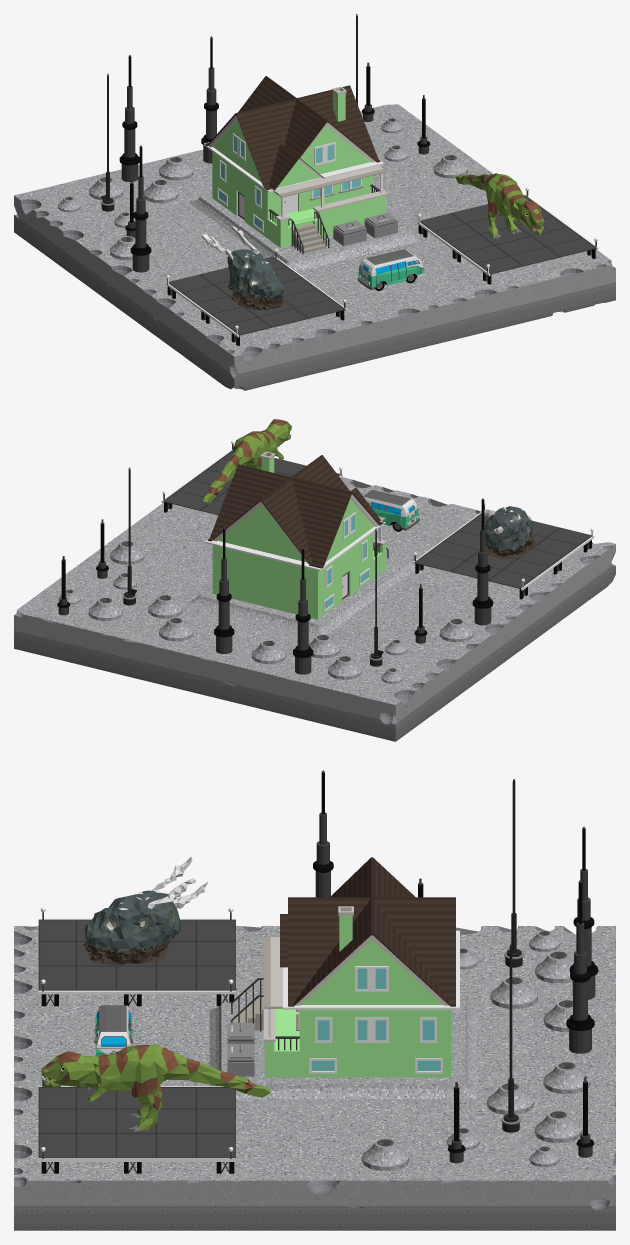
3 renders of one model, top to bottom at view 1: azimuth 30°, elevation 25°; view 2: azimuth 150°, elevation 25°; view 3: azimuth 270°, elevation 25°, orthographic. The views are drawn at different scales.
Parts seen in each view (by area): view 1: Cube.027, Cube.274, Cube.026, Cube.025, Cube.028, OBJRANDOM_METEORITE, ANIMAL_TREX, VEHICLES_VAN, Cylinder.021, Cylinder.020, Cylinder.017, Cube.029 (+5 smaller); view 2: Cube.027, Cube.274, Cube.025, Cube.028, Cube.026, ANIMAL_TREX, OBJRANDOM_METEORITE, VEHICLES_VAN, Cylinder.021, Cylinder.020, Cylinder.017, Cylinder.030 (+9 smaller); view 3: Cube.027, Cube.274, Cube.026, Cube.025, Cube.028, ANIMAL_TREX, OBJRANDOM_METEORITE, Cylinder.017, VEHICLES_VAN, Cylinder.020, Cylinder.021, Cylinder.033 (+11 smaller).
Boxes of the visible parts, x1,y1,x2,y2 form: Cube.027: (14, 104, 615, 390); Cube.274: (203, 76, 388, 254); Cube.026: (417, 187, 598, 284); Cube.025: (165, 249, 347, 345); Cube.028: (190, 193, 420, 271); OBJRANDOM_METEORITE: (201, 226, 284, 310); ANIMAL_TREX: (455, 173, 544, 239); VEHICLES_VAN: (357, 249, 424, 290); Cylinder.021: (130, 145, 151, 272); Cylinder.020: (119, 55, 139, 181); Cylinder.017: (201, 36, 218, 163); Cube.029: (333, 220, 366, 245); Cube.027: (14, 477, 615, 741); Cube.274: (205, 451, 388, 619); Cube.025: (413, 502, 594, 599); Cube.028: (188, 554, 415, 635); Cube.026: (161, 440, 342, 515); ANIMAL_TREX: (203, 419, 291, 503); OBJRANDOM_METEORITE: (484, 506, 535, 559); VEHICLES_VAN: (363, 490, 419, 531); Cylinder.021: (472, 498, 493, 625); Cylinder.020: (293, 547, 313, 674); Cylinder.017: (214, 527, 234, 653); Cylinder.030: (148, 594, 182, 618); Cube.027: (14, 926, 615, 1230); Cube.274: (231, 857, 459, 1077); Cube.026: (38, 1075, 235, 1173); Cube.025: (38, 907, 235, 1006); Cube.028: (209, 1002, 477, 1098); ANIMAL_TREX: (41, 1044, 271, 1131); OBJRANDOM_METEORITE: (83, 856, 207, 964); Cylinder.017: (566, 880, 594, 1053); VEHICLES_VAN: (94, 1005, 133, 1056); Cylinder.020: (569, 826, 598, 999); Cylinder.021: (313, 770, 333, 897); Cylinder.033: (361, 1138, 409, 1170).
Bounding box in the file's own units: 4000 × 1803 × 4000.
Materials: 39 (4 with a texture image).
